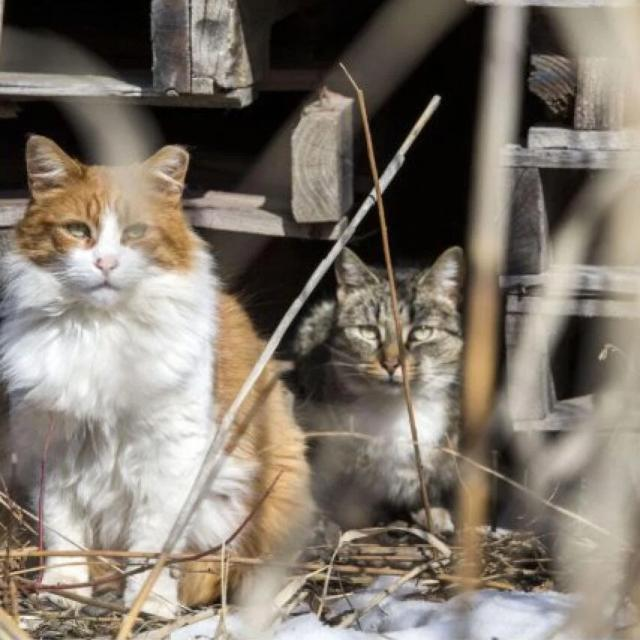cat: (0, 136, 262, 551), (294, 249, 420, 528), (179, 368, 314, 559), (396, 246, 464, 500), (144, 564, 220, 617), (42, 558, 109, 594)
